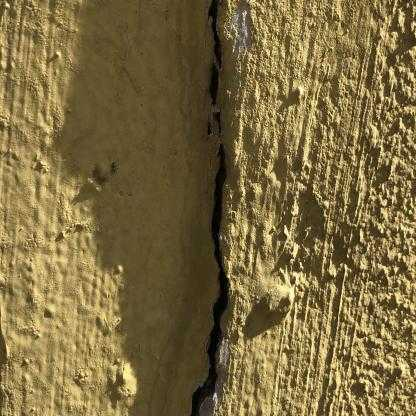crack: (189, 3, 230, 416)
